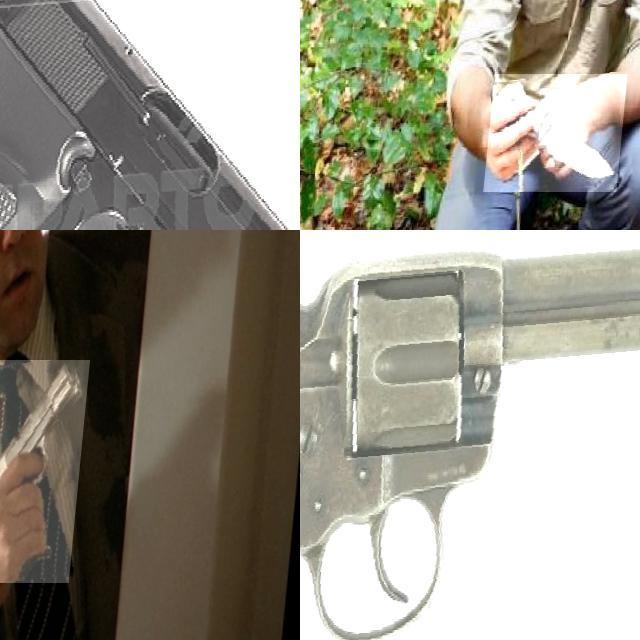-: (493, 74, 635, 192)
gun-knife-thesis - v11 Yolov5 augmented: (300, 230, 640, 640), (0, 0, 300, 230), (0, 360, 97, 582)
